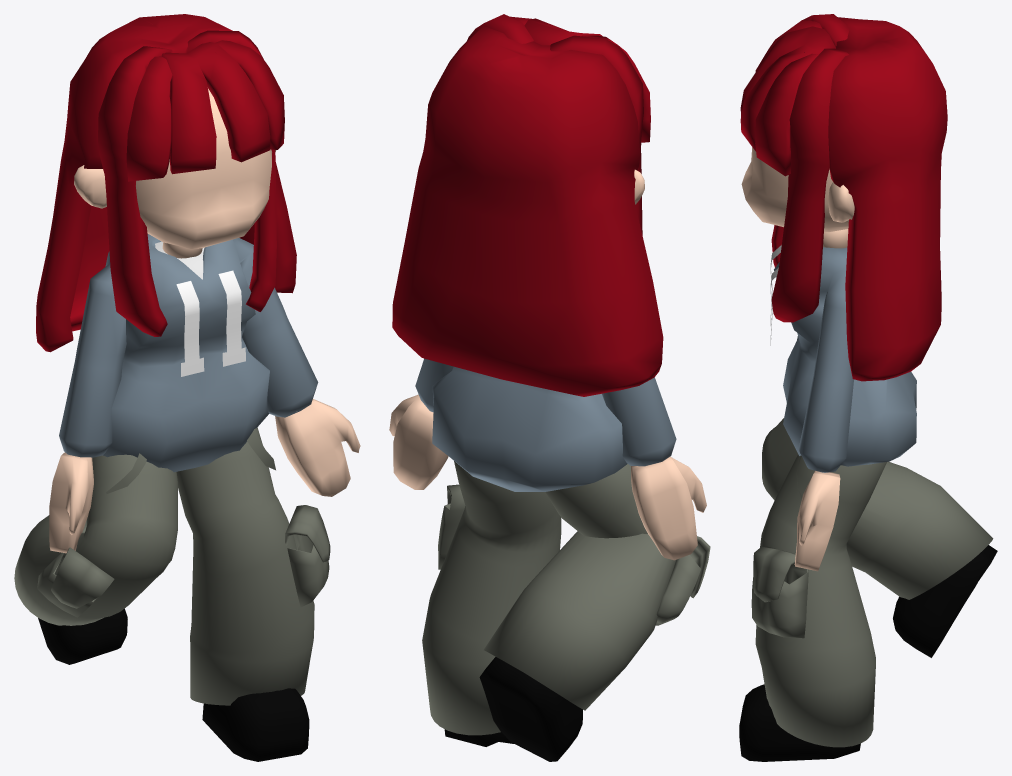
Rendered from umi_walk_3.glb.
3 renders of one model, left to right at view 1: azimuth 30°, elevation 25°; view 2: azimuth 150°, elevation 25°; view 3: azimuth 270°, elevation 25°, orthographic. The views are drawn at different scales.
Parts seen in each view (by area): view 1: pants, sweater, hair.003, hair.001, head, hair, feet, hand, hair.002, bolsillo, Plane, ear (+1 smaller); view 2: hair.003, pants, sweater, hand, feet, bolsillo, hair.001, hair, hair.002; view 3: pants, hair.003, sweater, hair.001, feet, bolsillo, hair.002, hair, hand, head, ear, neck.
Boxes of the visible parts, x1,y1,x2,y2 form: pants: (14,427,314,705); sweater: (59,234,318,472); hair.003: (36,14,296,352); hair.001: (98,30,276,336); head: (136,88,271,248); hair: (161,42,270,174); feet: (38,608,309,761); hand: (49,399,360,553); hair.002: (126,40,284,181); bolsillo: (37,505,330,617); Plane: (176,270,245,376); ear: (74,150,276,208); hair.003: (392,26,663,396); pants: (422,461,676,735); sweater: (415,358,676,491); hand: (389,394,706,560); feet: (444,657,582,761); bolsillo: (438,484,710,625); hair.001: (467,14,643,235); hair: (524,18,602,45); hair.002: (510,16,650,142); pants: (755,418,993,747); hair.003: (828,17,947,381); sweater: (774,247,916,472); hair.001: (771,14,849,322); feet: (739,545,997,761); bolsillo: (751,546,808,638); hair.002: (755,20,821,176); hair: (740,26,836,151); hand: (794,470,840,571); head: (741,147,848,231); ear: (828,182,854,222); neck: (823,229,848,248).
Size of the model in its own units: 2.24 by 4.91 by 1.68.
